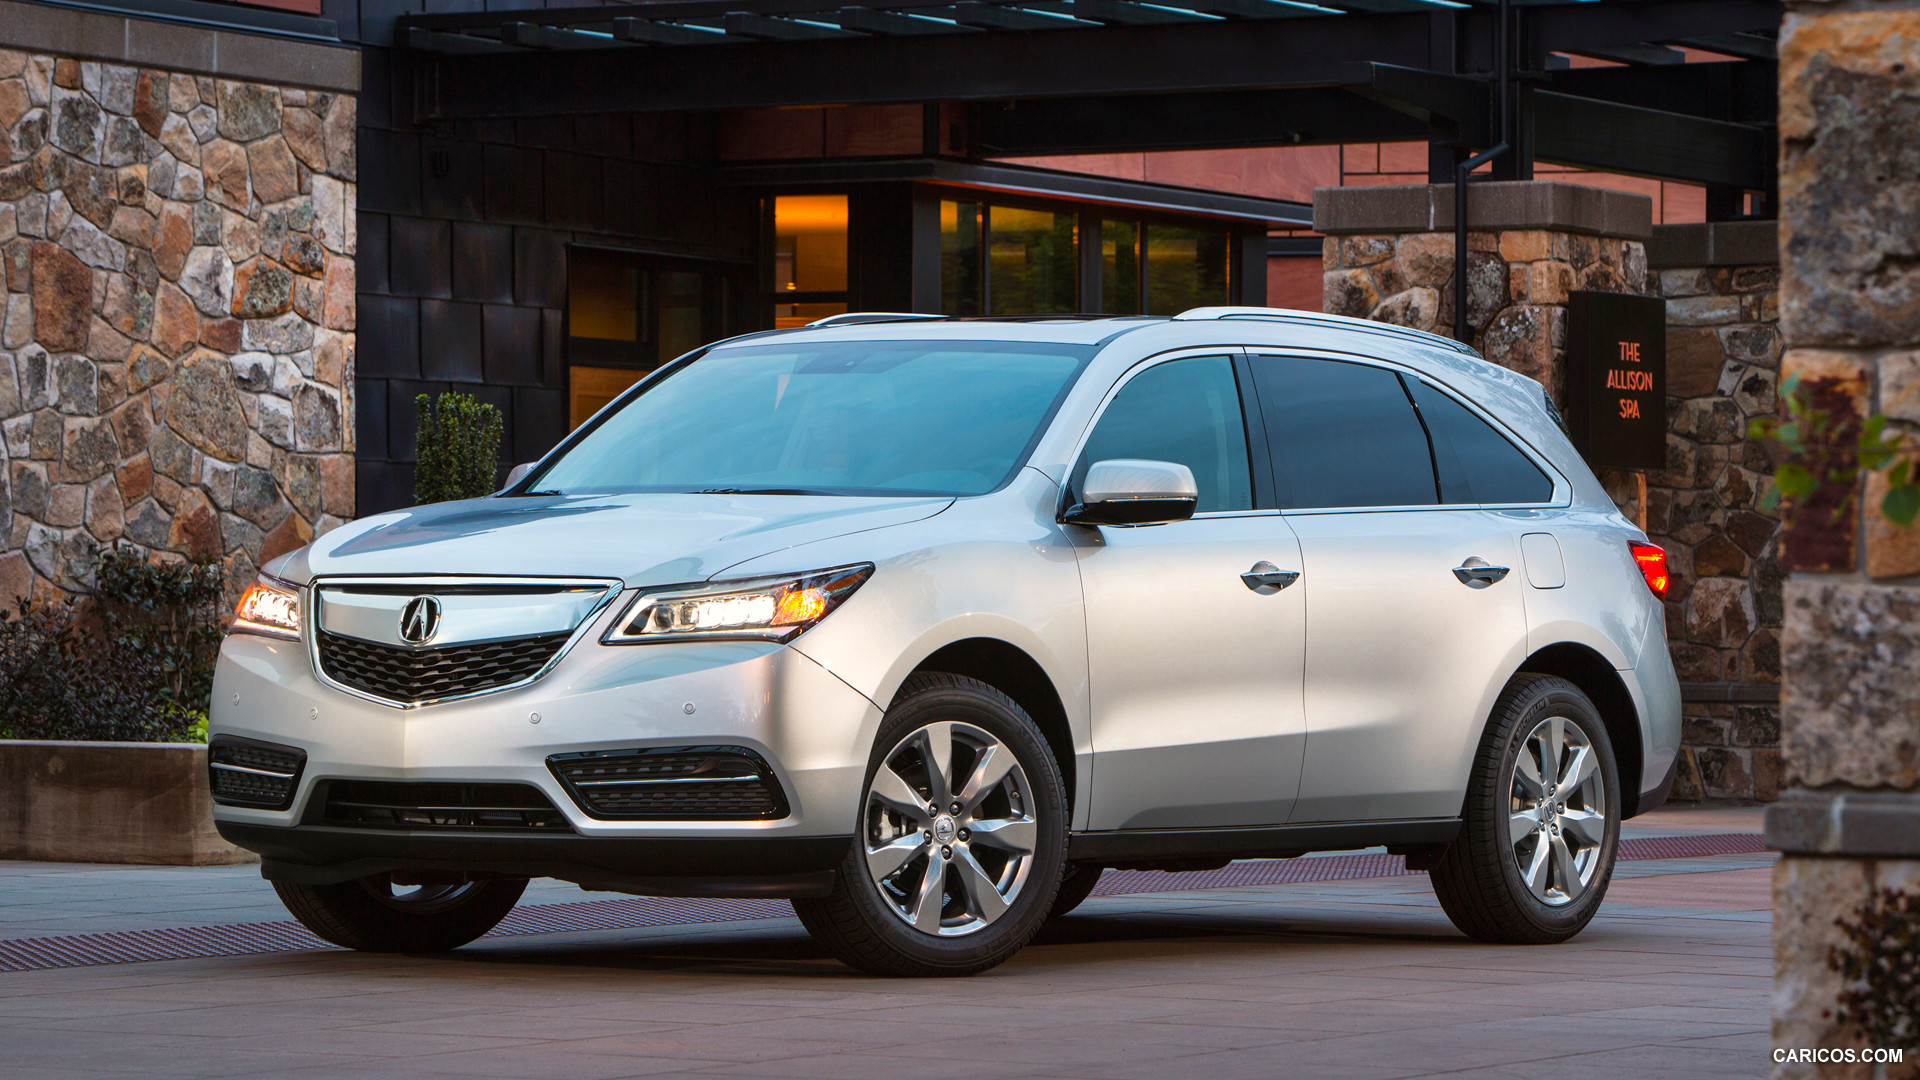Fog Lamp & Scope: (560, 746, 798, 825)
Front: (216, 501, 1023, 848)
Front Bumper: (207, 709, 873, 852)
Grill: (307, 574, 613, 702)
Headlight: (615, 559, 874, 647)
